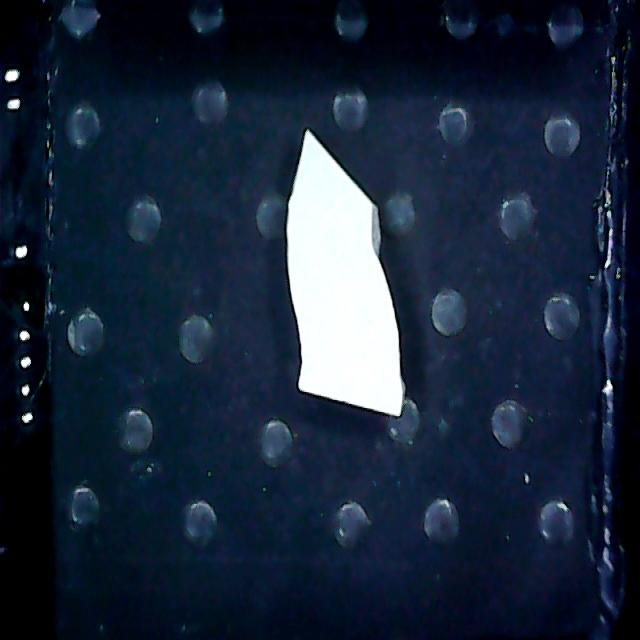-Other waste - ceramic-: (289, 129, 406, 419)
